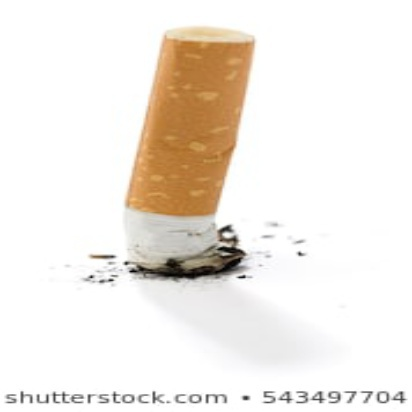cigarette: (120, 24, 257, 296)
